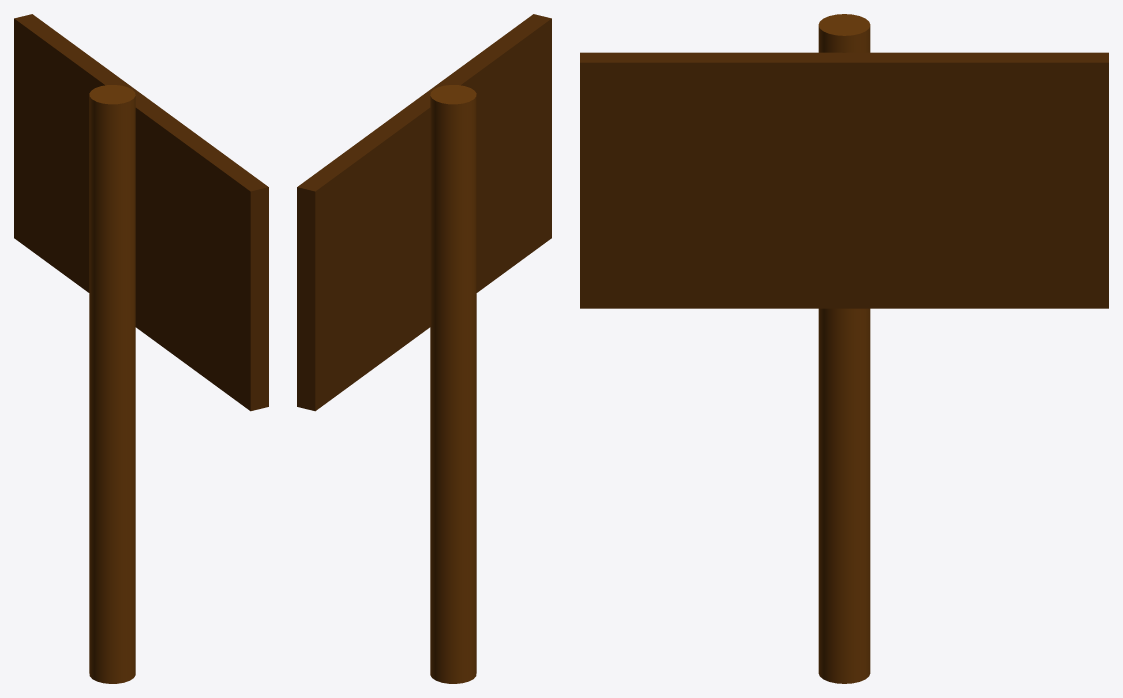
The model's file is Cartel.fbx.
3 renders of one model, left to right at view 1: azimuth 30°, elevation 25°; view 2: azimuth 150°, elevation 25°; view 3: azimuth 270°, elevation 25°, orthographic. The views are drawn at different scales.
Parts seen in each view (by area): view 1: pCube1, pasted__pCylinder1; view 2: pCube1, pasted__pCylinder1; view 3: pCube1, pasted__pCylinder1.
Boxes of the visible parts, x1=… form: pCube1: x1=14, y1=14, x2=268, y2=411; pasted__pCylinder1: x1=89, y1=85, x2=135, y2=683; pCube1: x1=297, y1=14, x2=551, y2=411; pasted__pCylinder1: x1=430, y1=85, x2=476, y2=683; pCube1: x1=580, y1=52, x2=1108, y2=308; pasted__pCylinder1: x1=818, y1=14, x2=870, y2=683.
Bounding box in the file's own units: 0.4305 × 4.1 × 3.03.
